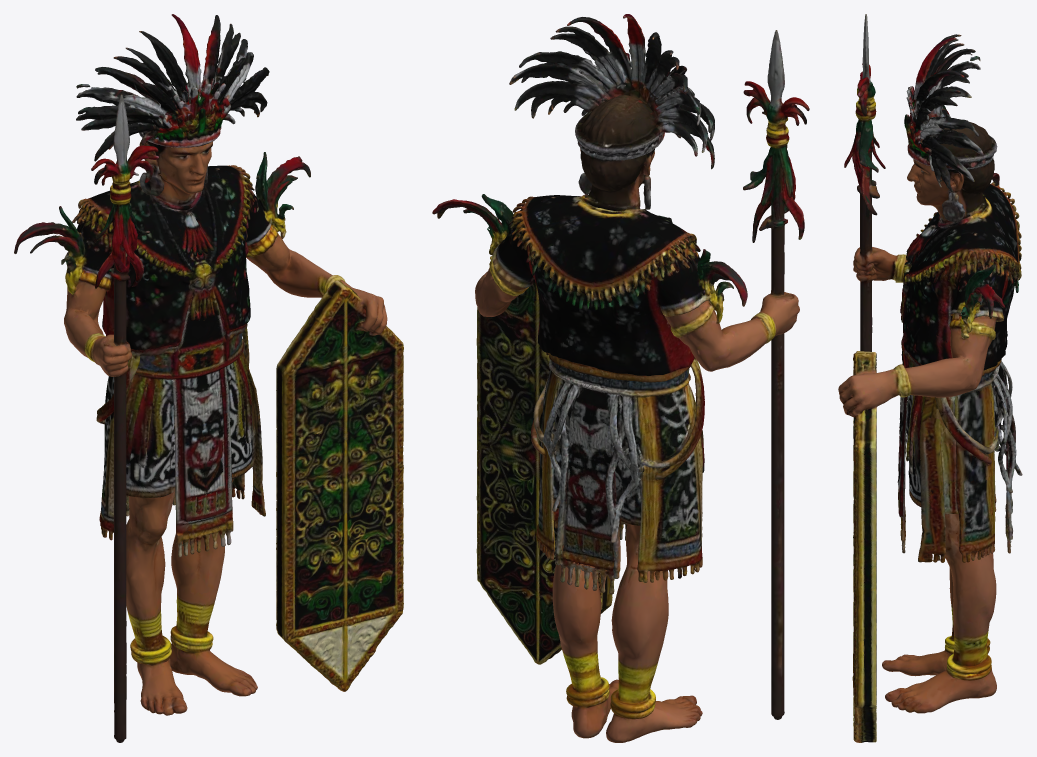
File: prajurit-dayak.glb
The picture shows the model from 3 angles, left to right: view 1: azimuth 30°, elevation 25°; view 2: azimuth 150°, elevation 25°; view 3: azimuth 270°, elevation 25°; orthographic projection. The views are drawn at different scales.
Visible parts, largest first — view 1: Object_4; view 2: Object_4; view 3: Object_4.
Boxes of the visible parts, bbox=[...] form: Object_4: bbox=[14, 14, 403, 742]; Object_4: bbox=[432, 14, 809, 742]; Object_4: bbox=[838, 14, 1022, 742].
Bounding box in the file's own units: 0.9434 × 1.9 × 0.4893.
Materials: 1 (1 with a texture image).
